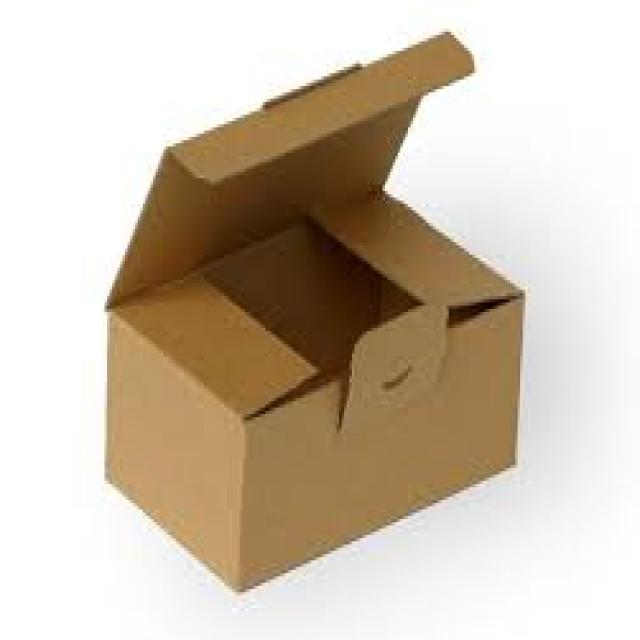cardboard: (102, 26, 520, 589)
